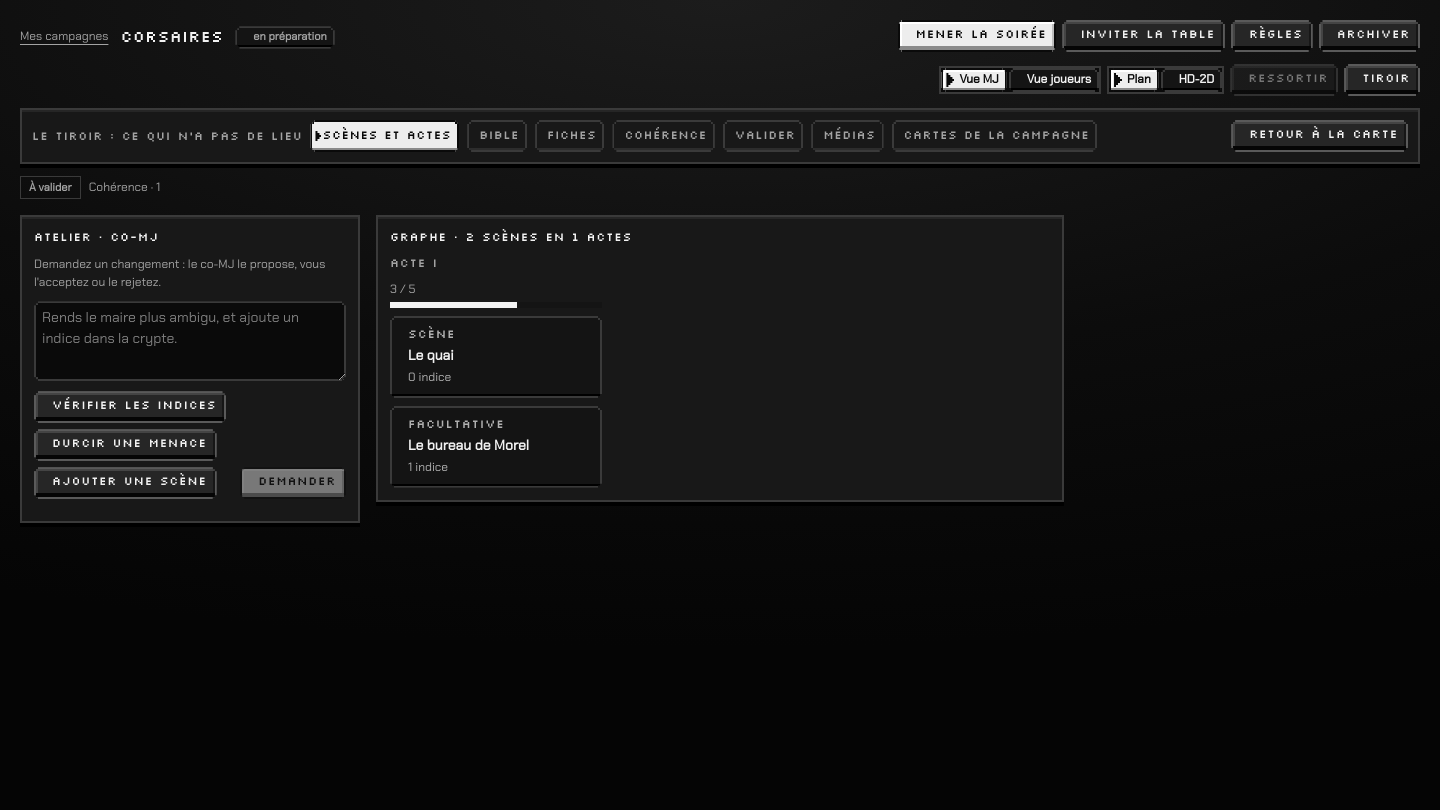
Scenario: PrepDesk, in the Atlas’s drawer › does not validate a campaign with errors
Step 1. Click the button "Valider" → x=763, y=136, box [723,120,803,152]
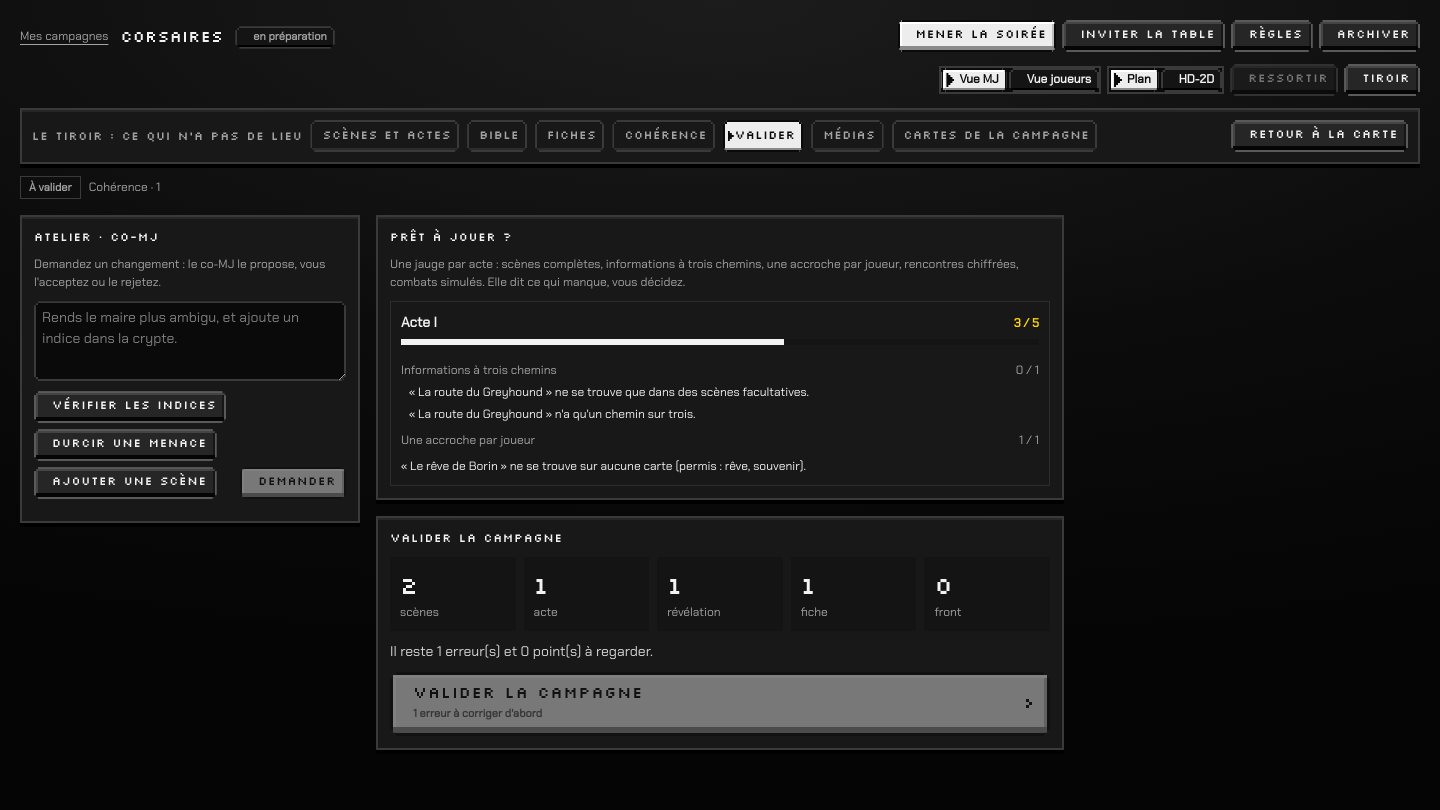
Now the button "Valider la campagne 1 erreur à corriger d'abord ›" is disabled, box [390,672,1050,736]
Now the text "« La route du Greyhound » ne se trouve que dans des scènes facultatives." is shown, box [409,384,809,400]
Now the text "« La route du Greyhound » n'a qu'un chemin sur trois." is shown, box [409,406,696,422]
